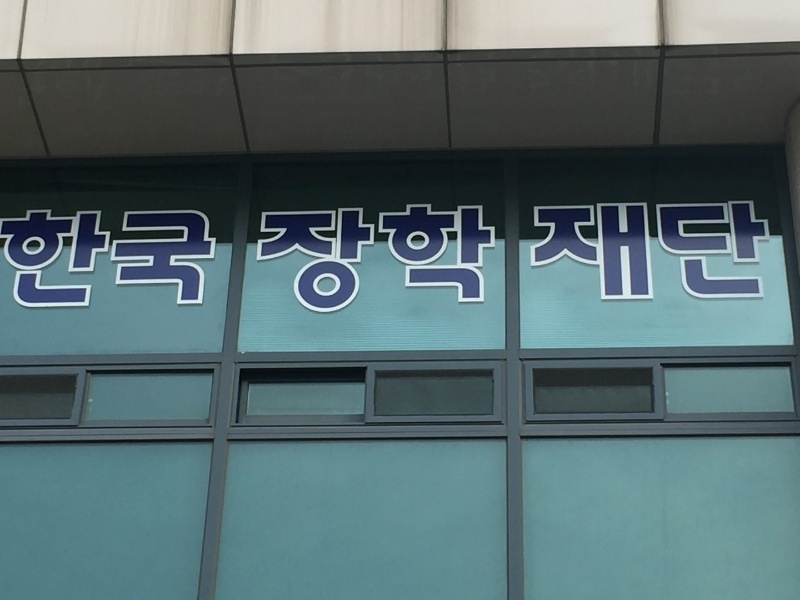text: (273, 206, 288, 318), (289, 206, 304, 318), (305, 206, 320, 318), (321, 206, 336, 318), (337, 206, 352, 318), (353, 206, 368, 318), (369, 206, 384, 318), (385, 206, 400, 318), (401, 206, 416, 318), (417, 206, 432, 318), (433, 206, 448, 318), (449, 206, 464, 318), (465, 206, 480, 318), (481, 206, 496, 318), (1, 207, 16, 314), (17, 207, 32, 314), (33, 207, 48, 314), (49, 207, 64, 314), (65, 207, 80, 314), (81, 207, 96, 314), (97, 207, 112, 314), (113, 207, 128, 314), (129, 207, 144, 314), (145, 207, 160, 314), (161, 207, 176, 314), (177, 207, 192, 314), (193, 207, 208, 314), (529, 199, 544, 303), (545, 199, 560, 303), (561, 199, 576, 303), (577, 199, 592, 303), (593, 199, 608, 303), (609, 199, 624, 303), (625, 199, 640, 303), (641, 199, 656, 303), (657, 199, 672, 303), (673, 199, 688, 303), (689, 199, 704, 303), (705, 199, 720, 303), (721, 199, 736, 303), (737, 199, 752, 303), (753, 199, 768, 303), (259, 206, 272, 318), (209, 207, 220, 314), (769, 199, 777, 303)
